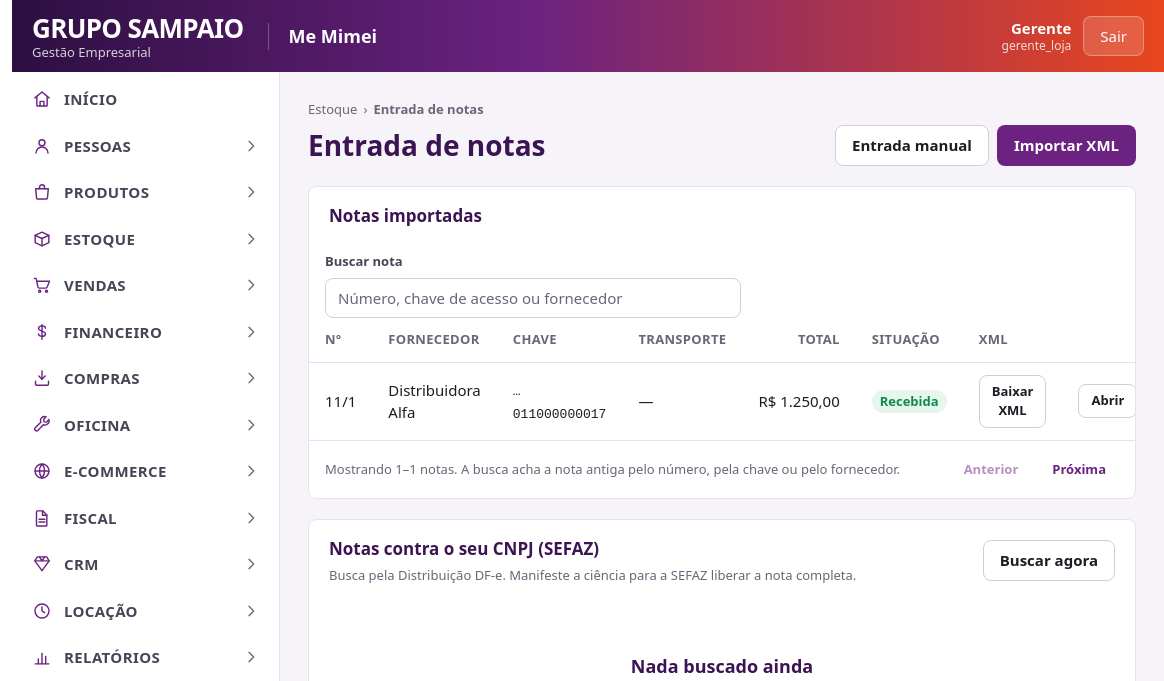
Scenario: o download do arquivo › nota sem arquivo guardado diz que o arquivo não existe — e não que a nota sumiu
Expected: the text "Distribuidora Alfa" is shown, left=372, top=362, right=497, bottom=440
Step 1. Click the button "Baixar XML" → {"x": 1012, "y": 401}, box left=979, top=374, right=1046, bottom=428
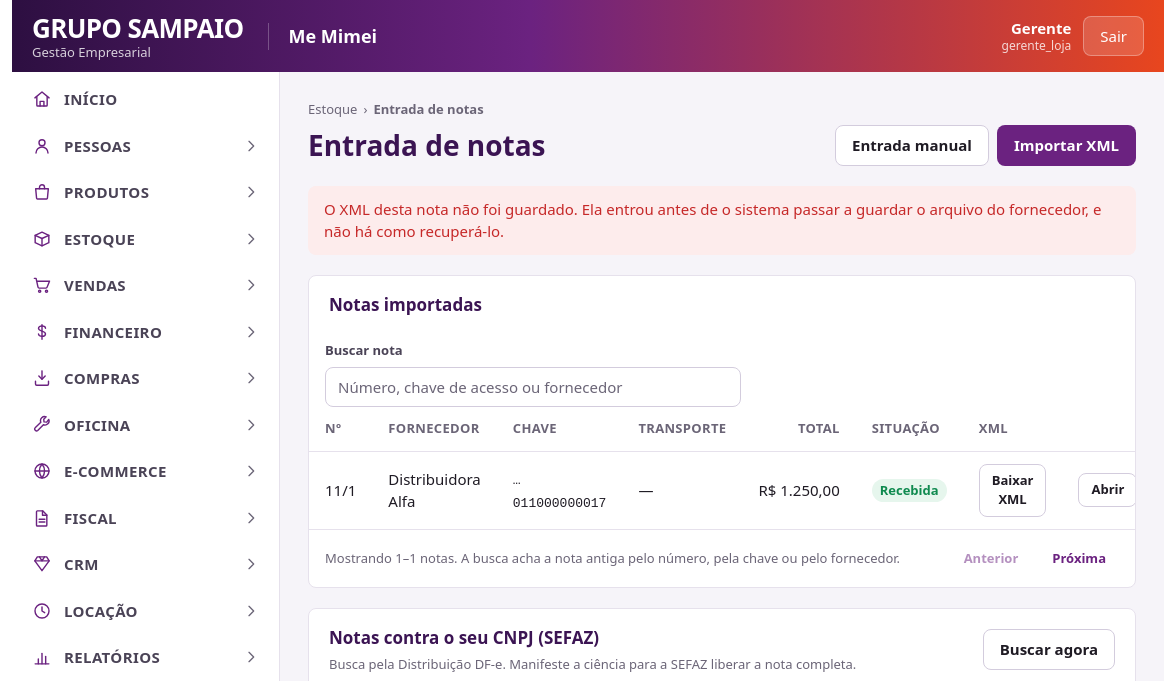
Expected: the text "não há como recuperá-lo" is shown, left=324, top=198, right=1101, bottom=241
